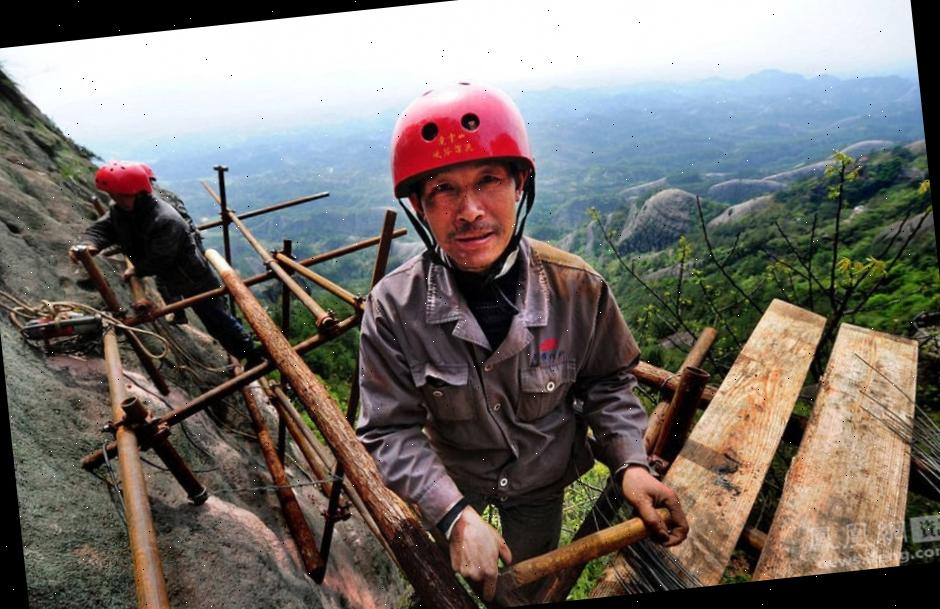helmet: (379, 70, 543, 197), (91, 156, 157, 200)
wear: (359, 252, 610, 508)
